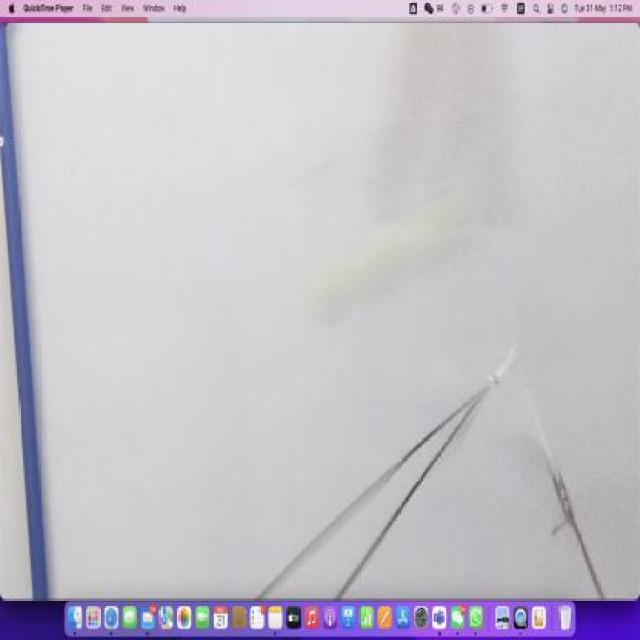baseball: (301, 211, 456, 315)
